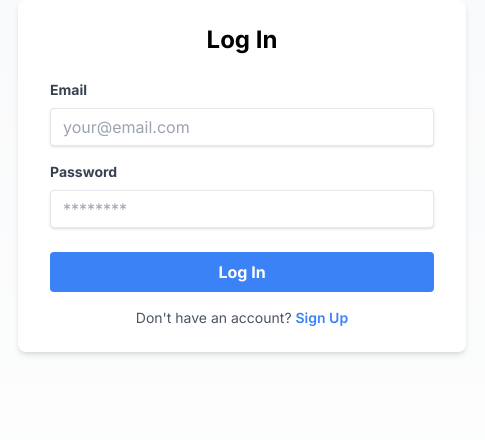
Test: AuthForm Component › displays error message on failed authentication
In the field labelled "Email": (242, 127) [50,108,434,146], type "test@example.com"
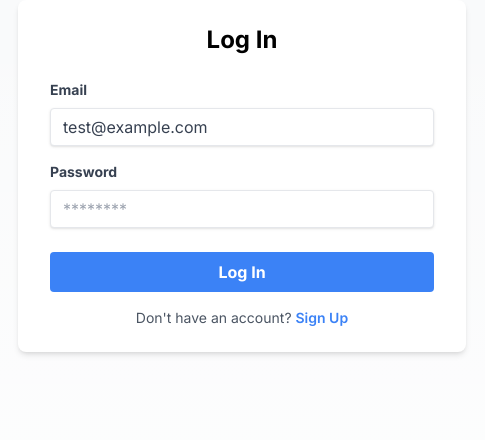
In the password field labelled "Password": (242, 209) [50,190,434,228], type "WrongPassword"
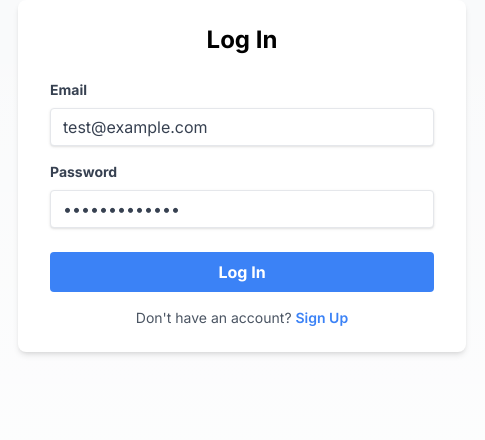
Click the button "Log In": (242, 272) [50,252,434,292]
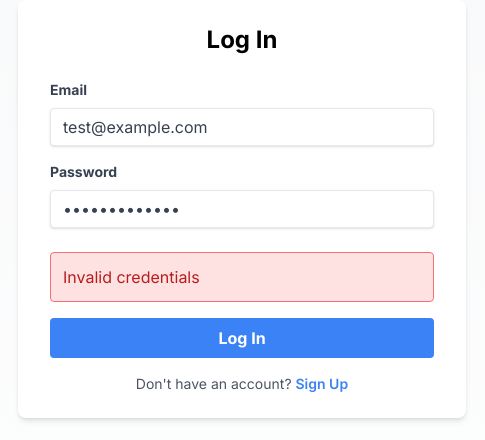
Result: the text "Invalid credentials" is shown at [50,252,434,302]
